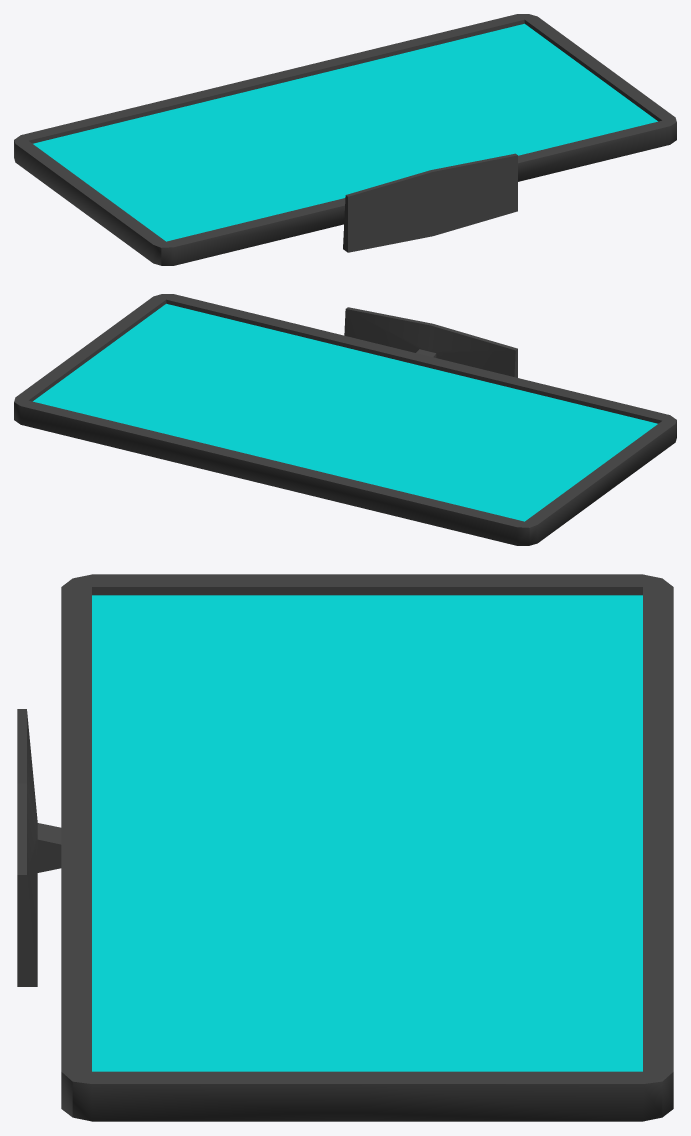
File: Blue TV.fbx
The picture shows the model from 3 angles, top to bottom: view 1: azimuth 30°, elevation 25°; view 2: azimuth 150°, elevation 25°; view 3: azimuth 270°, elevation 25°; orthographic projection. The views are drawn at different scales.
Visible parts, largest first — view 1: pCube3; view 2: pCube3; view 3: pCube3.
Boxes of the visible parts, <box> form: pCube3: <box>14,14,676,265</box>; pCube3: <box>14,294,676,545</box>; pCube3: <box>17,574,673,1121</box>.
Size of the model in its own units: 197 by 23.18 by 107.
